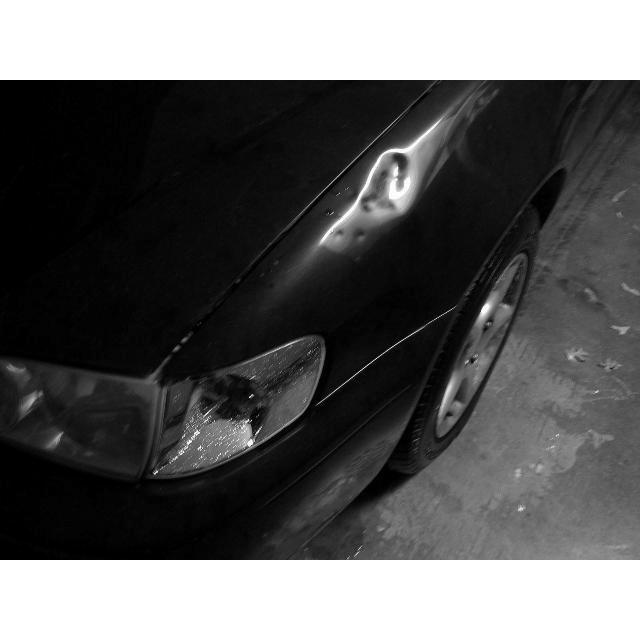fender-dent: (334, 89, 572, 348)
